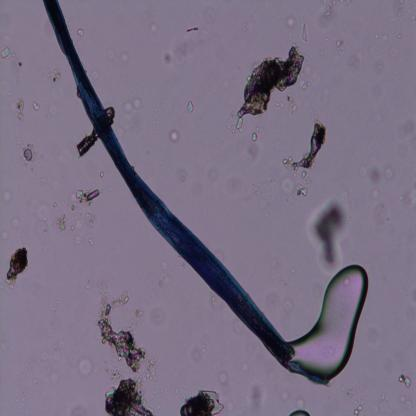Air bubble: (290, 264, 369, 368), (288, 407, 311, 416)
Background material: (225, 43, 304, 133), (96, 286, 154, 374), (287, 117, 329, 195), (311, 197, 349, 271), (103, 374, 153, 415), (177, 388, 228, 416), (346, 378, 376, 416), (7, 244, 30, 288), (376, 197, 400, 233), (74, 181, 99, 211), (244, 378, 266, 412), (396, 121, 416, 157), (76, 127, 99, 158), (144, 302, 165, 330), (43, 62, 67, 86), (184, 342, 208, 366), (161, 46, 188, 67), (369, 46, 386, 78), (367, 167, 382, 203), (300, 56, 316, 88), (112, 44, 134, 65), (21, 141, 38, 168), (404, 178, 416, 214), (320, 3, 342, 22), (348, 45, 364, 71), (122, 97, 143, 113), (78, 355, 93, 377), (16, 92, 26, 124), (216, 368, 230, 388), (174, 161, 188, 181), (383, 161, 396, 182), (397, 371, 413, 388), (57, 211, 69, 233), (300, 20, 310, 43), (0, 46, 12, 61), (168, 129, 180, 144), (334, 38, 345, 52), (186, 24, 200, 34), (2, 190, 13, 202), (287, 13, 295, 28), (149, 18, 159, 30), (186, 100, 194, 114), (76, 27, 86, 38), (32, 101, 41, 111)
Cotton: (42, 0, 293, 367)
